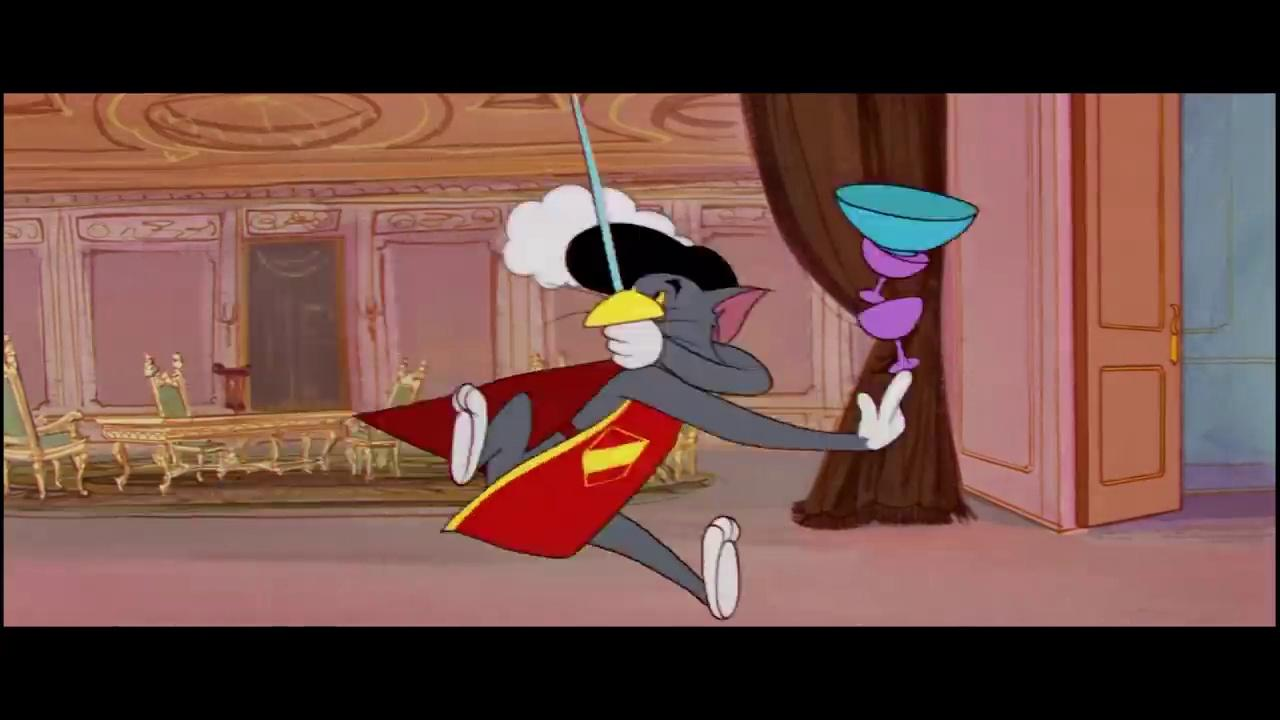Tom: (448, 269, 917, 622)
